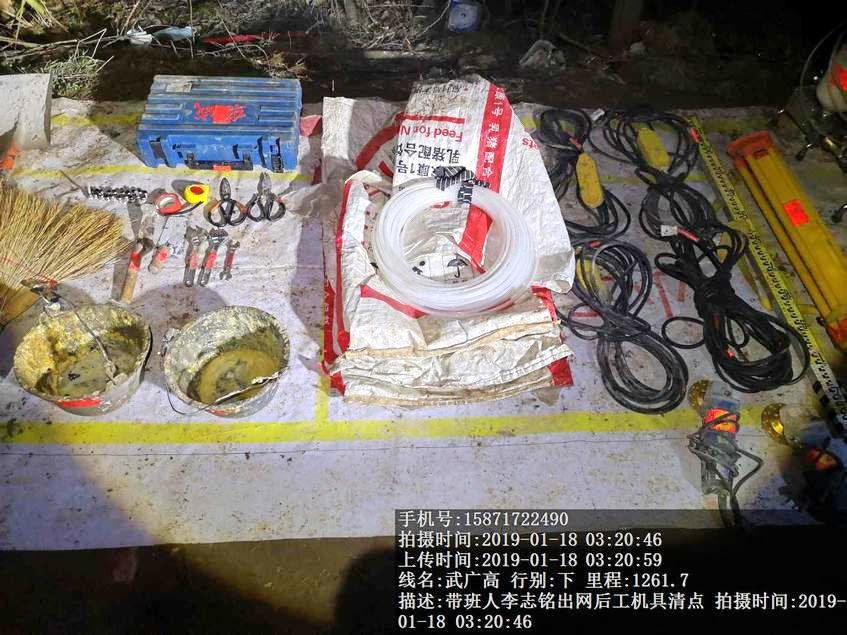BZD: (317, 85, 571, 409)
DMJ: (684, 378, 743, 499)
DX: (573, 241, 690, 415), (601, 101, 714, 238)
SB: (1, 201, 130, 294)
SG: (365, 179, 539, 315)
SNT: (11, 304, 152, 416), (160, 305, 291, 419)
